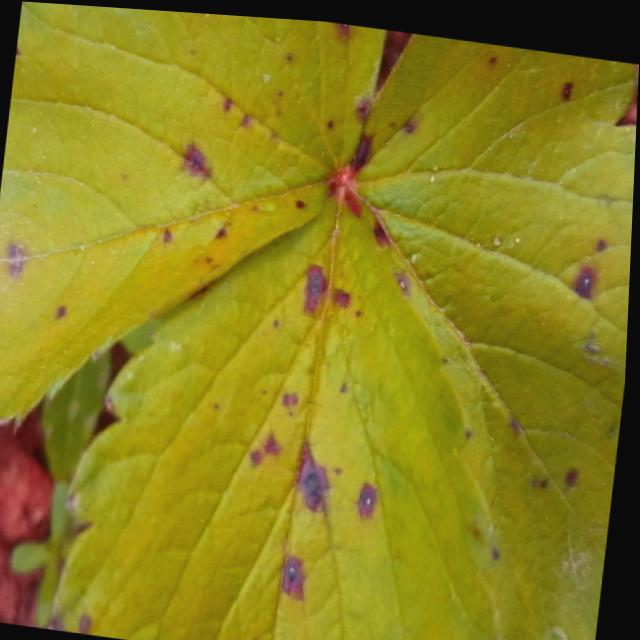Leaf Spot: (52, 177, 507, 640), (346, 27, 639, 640), (0, 1, 388, 439)
